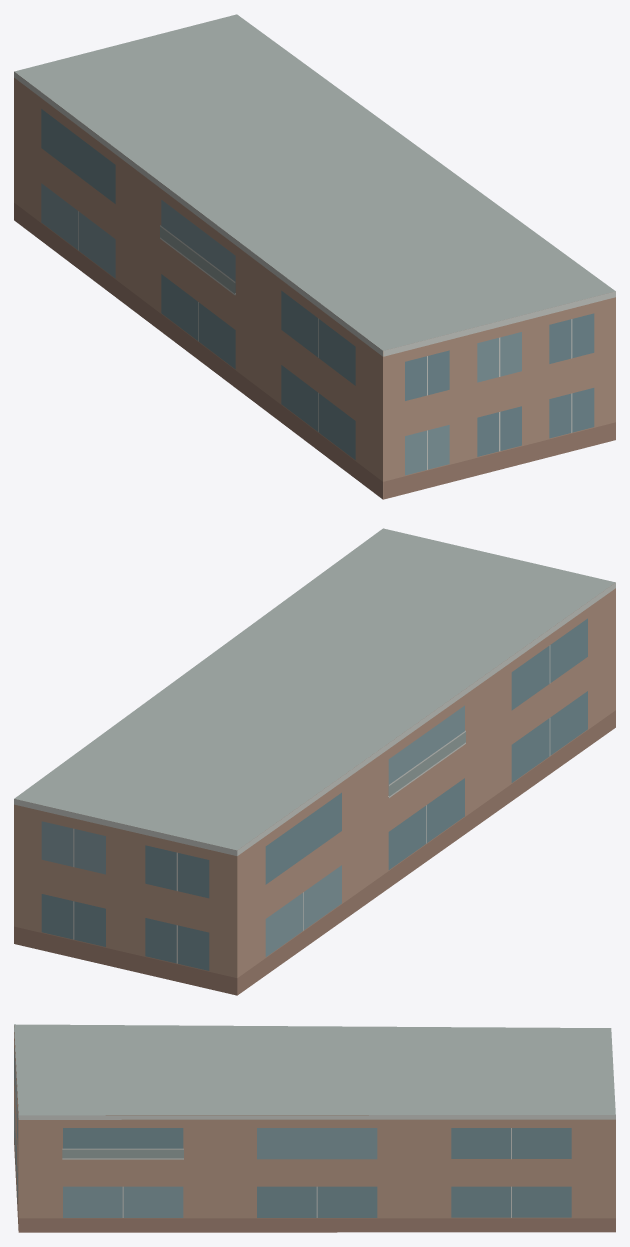
The model's file is survey-upis-32770954.glb.
3 renders of one model, top to bottom at view 1: azimuth 30°, elevation 25°; view 2: azimuth 150°, elevation 25°; view 3: azimuth 270°, elevation 25°, orthographic. The views are drawn at different scales.
Parts seen in each view (by area): view 1: survey-upis-32770954.tmp; view 2: survey-upis-32770954.tmp; view 3: survey-upis-32770954.tmp.
Part boxes in pixels (x1=…): survey-upis-32770954.tmp: x1=14, y1=14, x2=615, y2=499; survey-upis-32770954.tmp: x1=14, y1=528, x2=615, y2=995; survey-upis-32770954.tmp: x1=14, y1=1024, x2=615, y2=1232.
Bounding box in the file's own units: 10.16 × 6.1 × 28.37.
